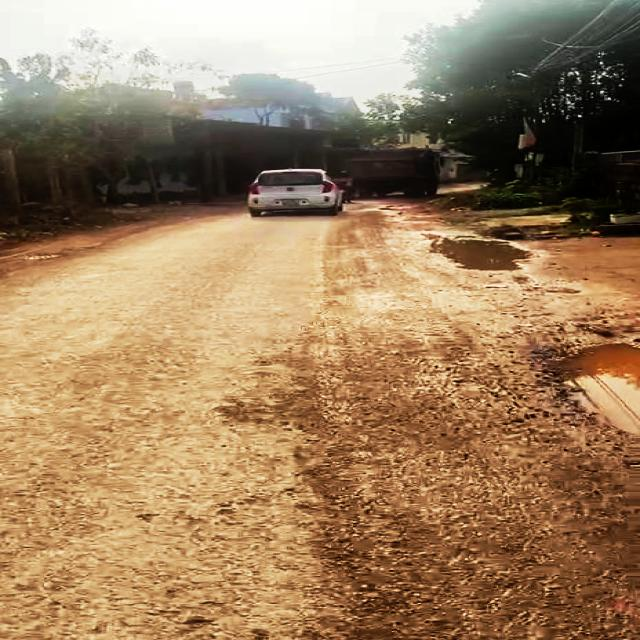pothole: (539, 334, 640, 445), (426, 232, 537, 274)
